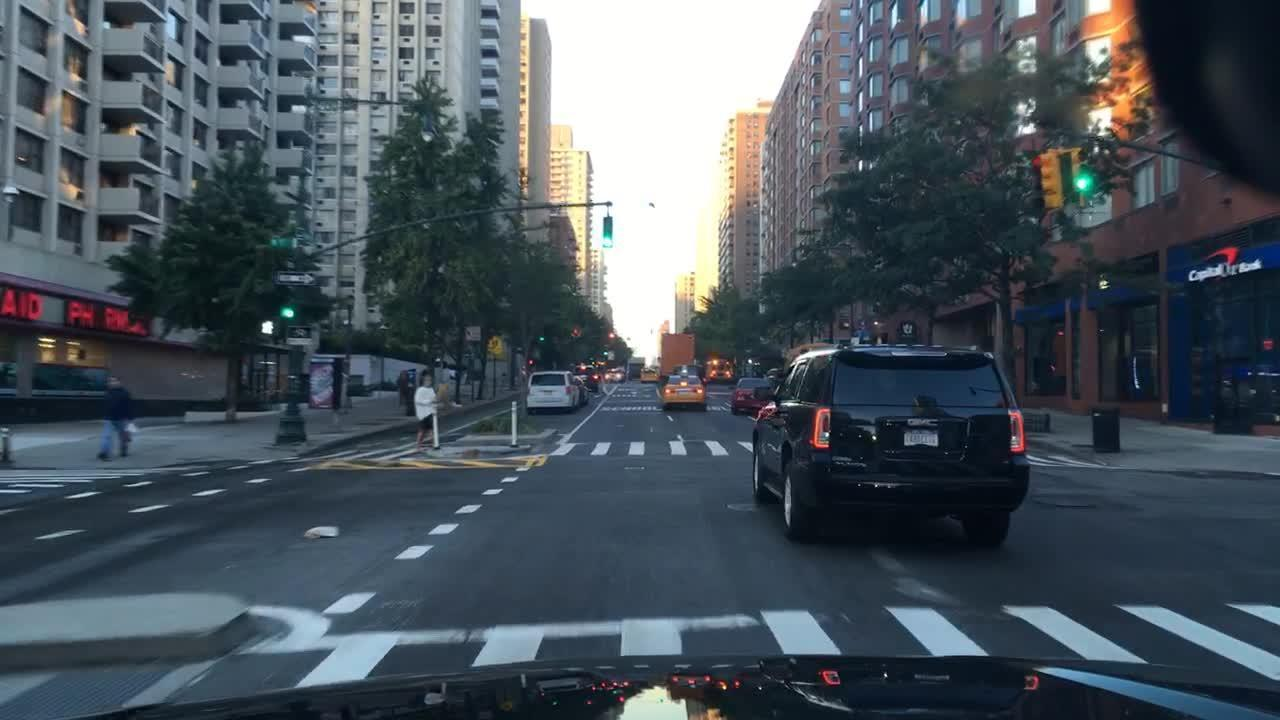GMC: (905, 415, 944, 430)
